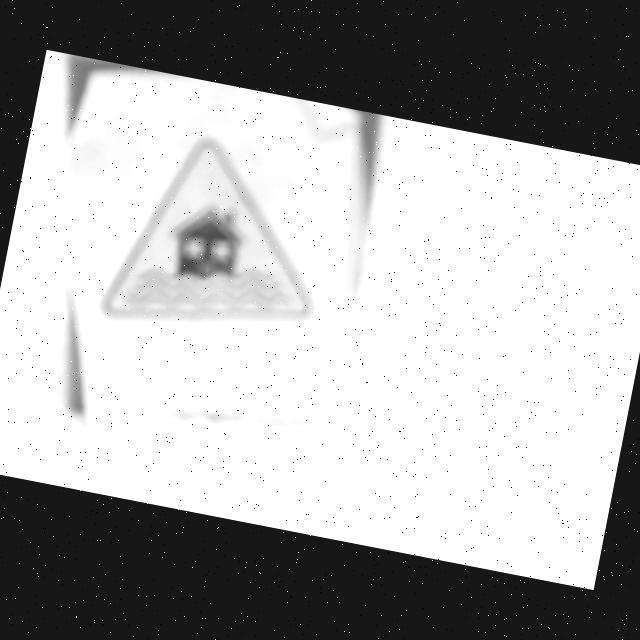Tsunami: (102, 138, 313, 320)
